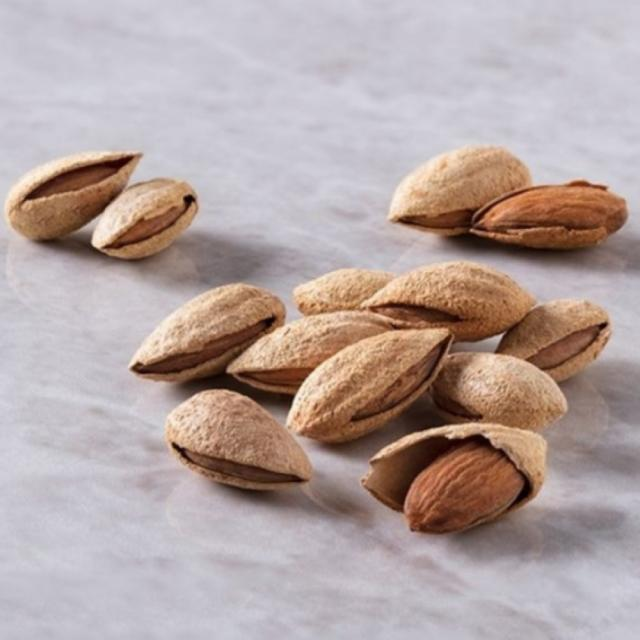almond: (401, 441, 530, 534), (478, 186, 630, 242)
